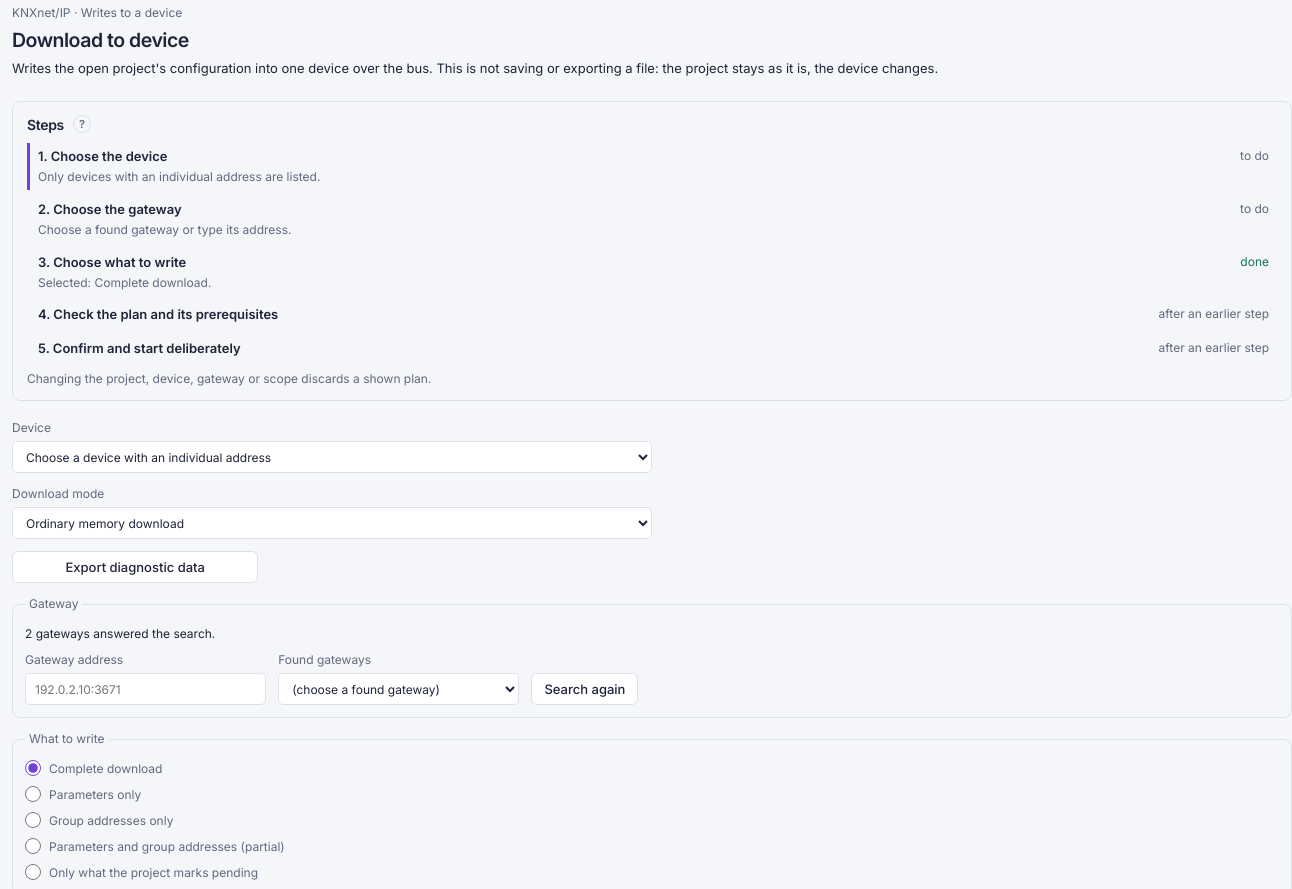
offers several gateways by name, endpoint and interface address without choosing one
Check: the field labelled "Gateway address" is empty, box 25,673 -> 266,705
Select "KNX IP — 192.0.2.11:3671 · 1.1.251" in the dropdown labelled "Found gateways". click: (399, 689)
box: 278,673 -> 519,705
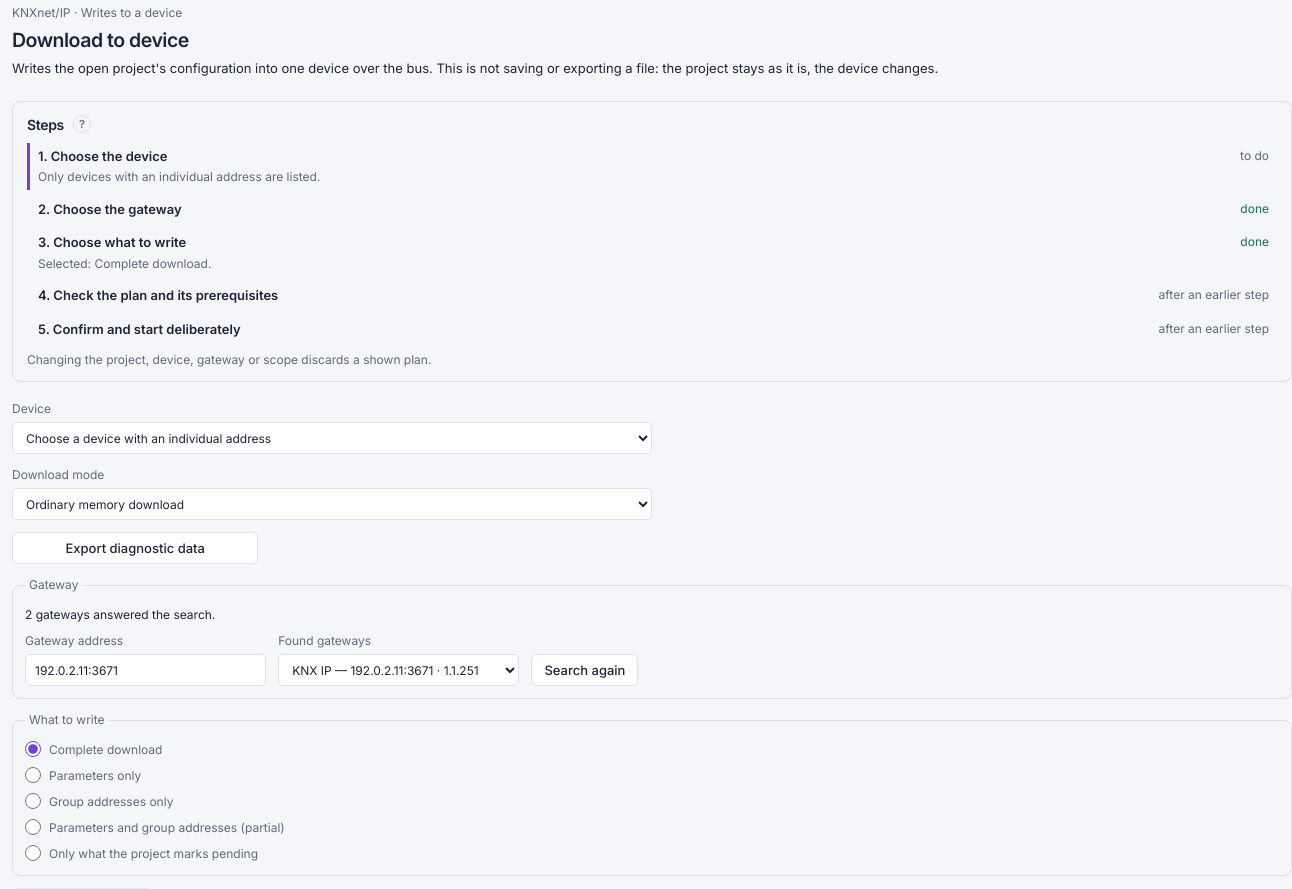
Check: the field labelled "Gateway address" holds "192.0.2.11:3671", box 25,654 -> 266,686
